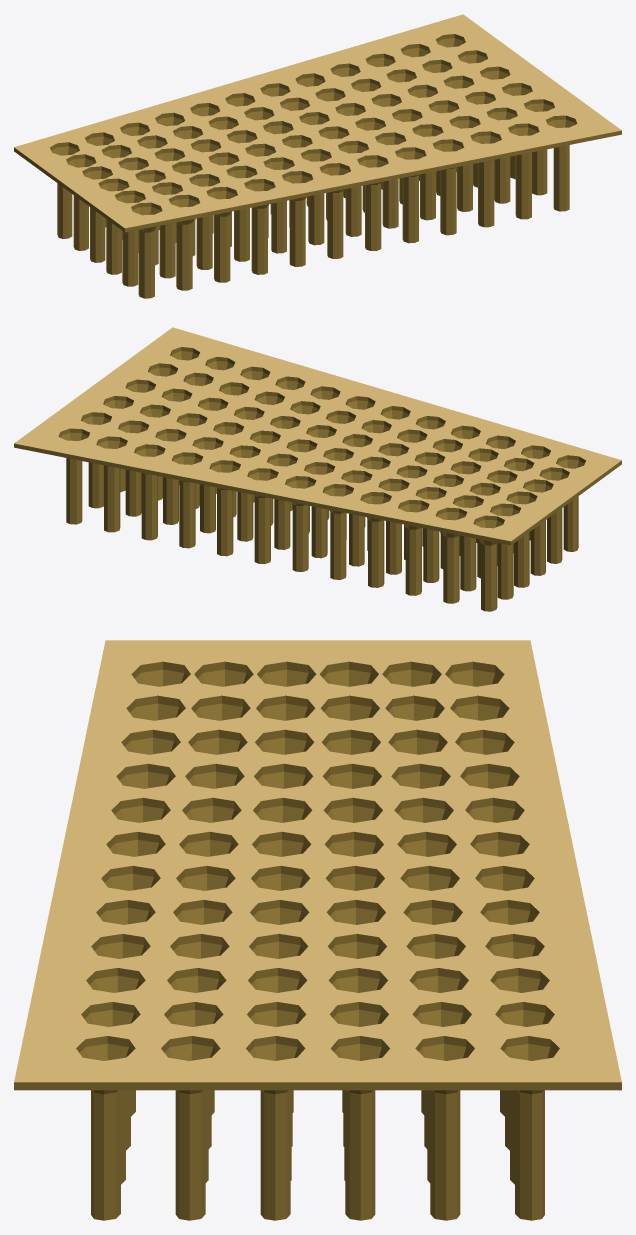
Rendered from mızraklızemin.fbx.
3 renders of one model, top to bottom at view 1: azimuth 30°, elevation 25°; view 2: azimuth 150°, elevation 25°; view 3: azimuth 270°, elevation 25°, orthographic. The views are drawn at different scales.
Visible parts, largest first — view 1: Circle; view 2: Circle; view 3: Circle.
Part boxes in pixels (x1,y1,x2,y2): Circle: (14,14,621,298); Circle: (14,327,621,611); Circle: (14,640,621,1220).
Bounding box in the file's own units: 600 × 105 × 349.
